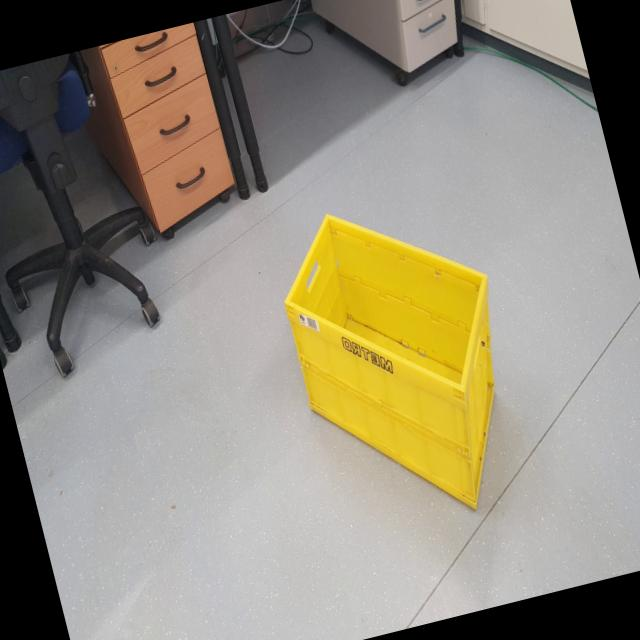box: (249, 159, 556, 576)
